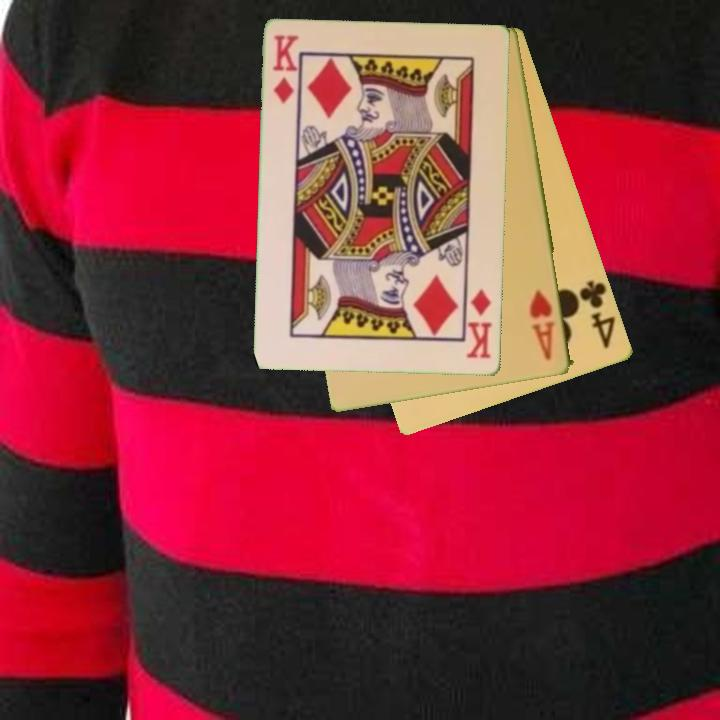4c: (576, 277, 619, 352)
Ah: (526, 287, 559, 364)
Kd: (269, 32, 301, 107), (464, 286, 495, 362)
